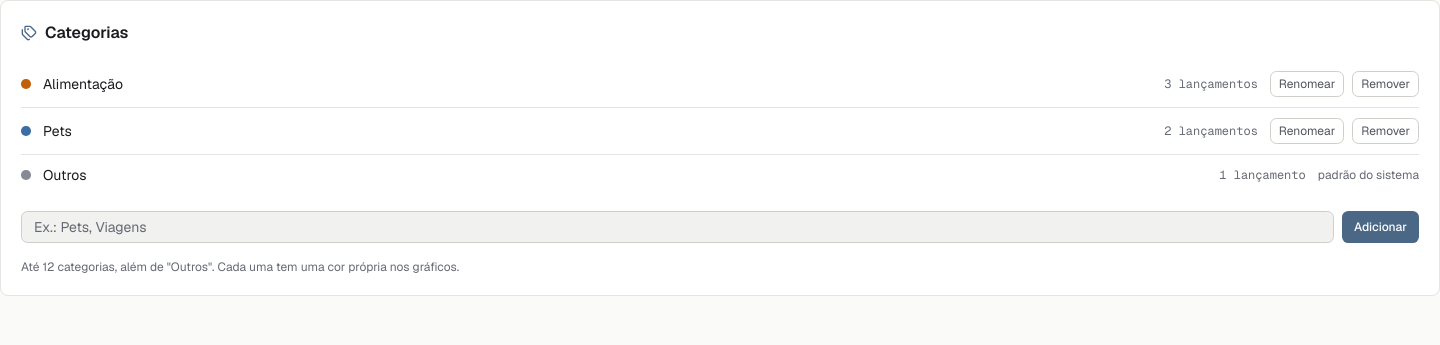
Test case: CategoriasSection — adicionar › nome duplicado mostra o motivo em português e mantém o texto digitado
This screenshot has width=1440, height=345.
Type "pets" into the field named "Nova categoria" at [678, 227], box [21,211,1334,243]
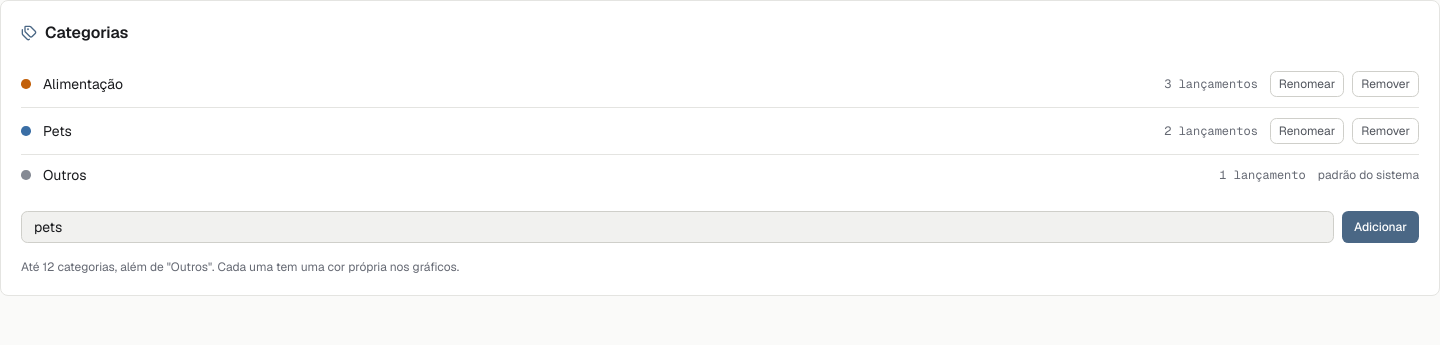
Click the button "Adicionar" at [1380, 227], box [1342,211,1419,243]
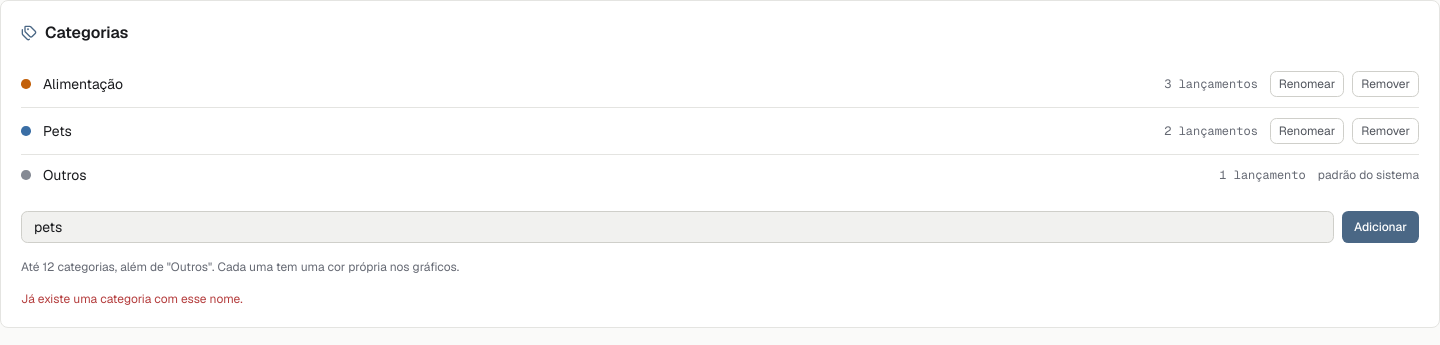
Expected: the message reads "Já existe uma categoria com esse nome.", [21,291,243,307]
